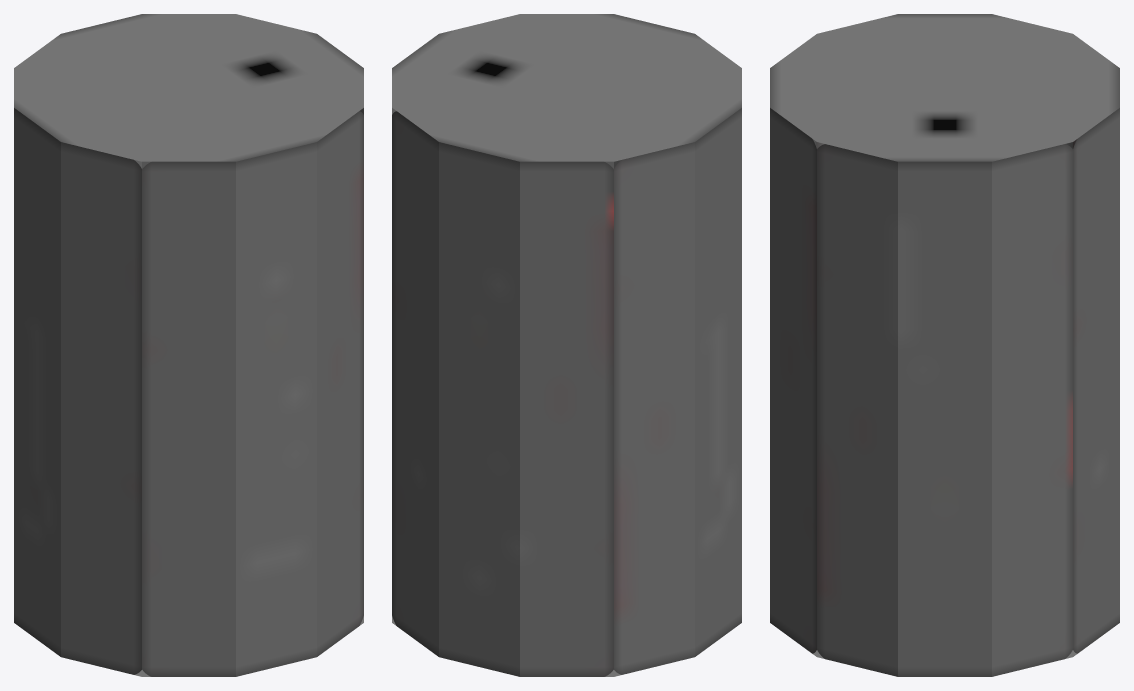
The model's file is barrelnonexplo.fbx.
3 renders of one model, left to right at view 1: azimuth 30°, elevation 25°; view 2: azimuth 150°, elevation 25°; view 3: azimuth 270°, elevation 25°, orthographic.
Parts seen in each view (by area): view 1: cylinder; view 2: cylinder; view 3: cylinder.
Part boxes in pixels (x1=…): cylinder: x1=14, y1=14, x2=363, y2=676; cylinder: x1=392, y1=14, x2=741, y2=676; cylinder: x1=770, y1=14, x2=1119, y2=676.
Size of the model in its own units: 12.5 by 20.31 by 12.5.
Materials: 1 (1 with a texture image).
